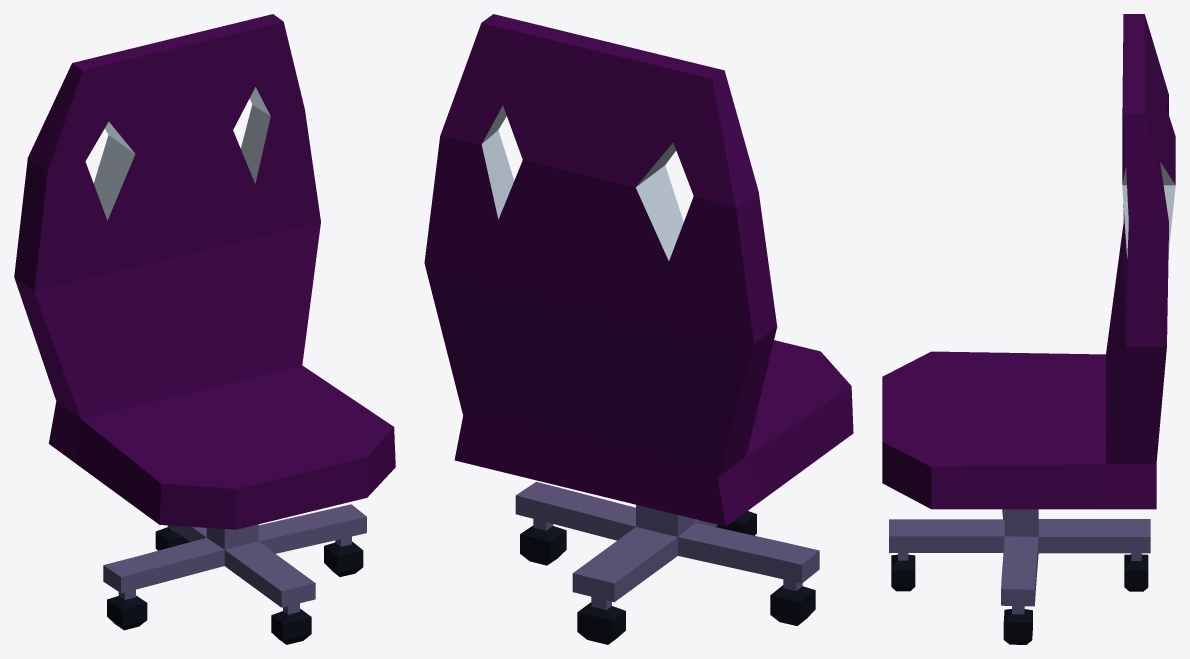
Rendered from CadeiraSamuel.fbx.
3 renders of one model, left to right at view 1: azimuth 30°, elevation 25°; view 2: azimuth 150°, elevation 25°; view 3: azimuth 270°, elevation 25°, orthographic. The views are drawn at different scales.
Visible parts, largest first — view 1: CadeiraSamuel; view 2: CadeiraSamuel; view 3: CadeiraSamuel.
Boxes of the visible parts, x1,y1,x2,y2 form: CadeiraSamuel: (14,14,395,644); CadeiraSamuel: (424,14,853,644); CadeiraSamuel: (882,14,1175,644).
Size of the model in its own units: 0.7805 by 1.34 by 0.681.
